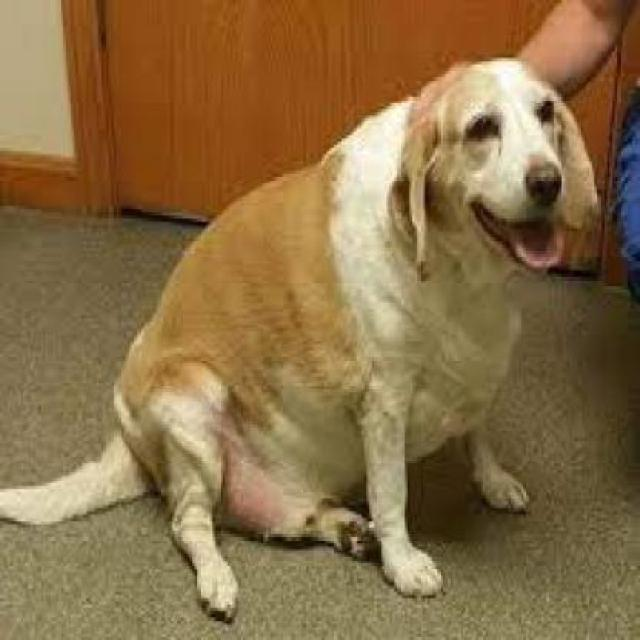Dog: (4, 52, 604, 618)
